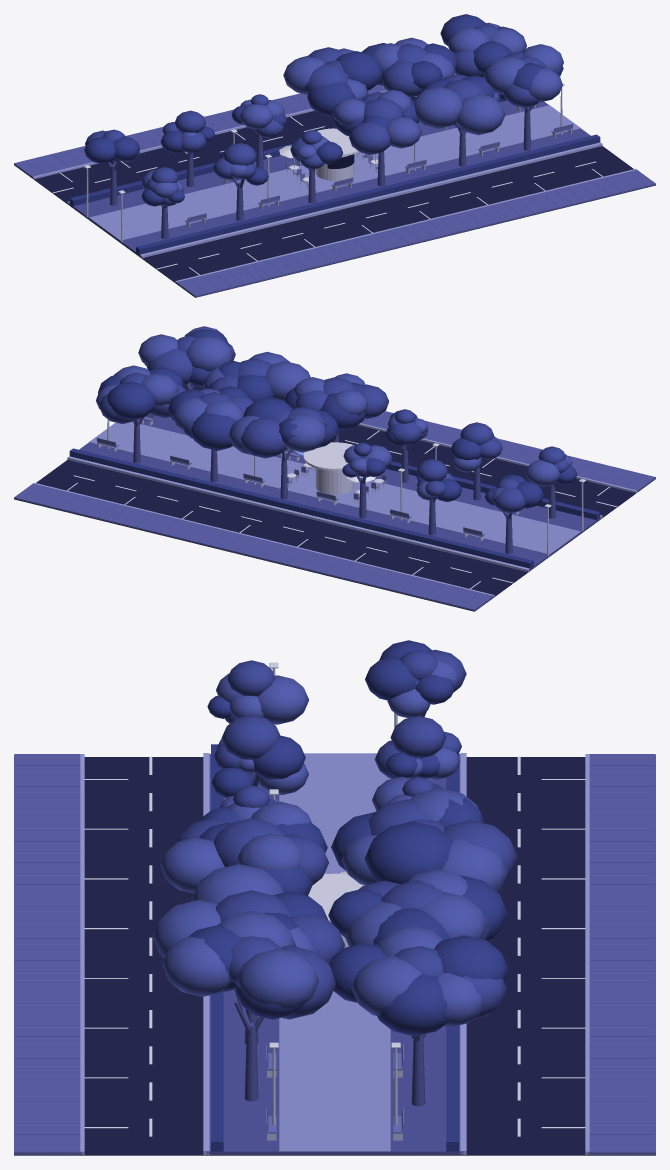
The model's file is boulevard.glb.
The picture shows the model from 3 angles, top to bottom: view 1: azimuth 30°, elevation 25°; view 2: azimuth 150°, elevation 25°; view 3: azimuth 270°, elevation 25°; orthographic projection. The views are drawn at different scales.
Visible parts, largest first — view 1: baked0, baked6, baked9, baked1, baked8, baked5, baked4, baked2, baked7, baked11, baked3, baked10 (+2 smaller); view 2: baked0, baked6, baked1, baked9, baked5, baked8, baked4, baked2, baked7, kioskRoof, baked10, kioskBody (+2 smaller); view 3: baked0, baked1, baked9, baked6, baked8, baked5, baked4, baked2, baked3, baked7, kioskRoof, baked11 (+1 smaller).
Boxes of the visible parts, left/top/right/bottom form: baked0: left=14, top=95, right=655, bottom=297; baked6: left=69, top=14, right=600, bottom=254; baked9: left=106, top=22, right=563, bottom=198; baked1: left=14, top=84, right=655, bottom=297; baked8: left=85, top=24, right=545, bottom=206; baked5: left=89, top=105, right=580, bottom=240; baked4: left=14, top=85, right=646, bottom=295; baked2: left=32, top=73, right=636, bottom=282; baked7: left=107, top=96, right=532, bottom=239; baked11: left=86, top=87, right=571, bottom=242; baked3: left=52, top=96, right=602, bottom=275; baked10: left=185, top=106, right=573, bottom=222; baked0: left=14, top=384, right=654, bottom=611; baked6: left=69, top=329, right=600, bottom=568; baked1: left=14, top=411, right=655, bottom=611; baked9: left=96, top=326, right=572, bottom=504; baked5: left=89, top=422, right=580, bottom=554; baked8: left=99, top=335, right=569, bottom=513; baked4: left=23, top=413, right=655, bottom=609; baked2: left=33, top=383, right=637, bottom=596; baked7: left=133, top=383, right=556, bottom=553; kioskRoof: left=303, top=442, right=353, bottom=470; baked10: left=96, top=413, right=484, bottom=536; kioskBody: left=315, top=468, right=354, bottom=494; baked0: left=14, top=757, right=655, bottom=1155; baked1: left=14, top=754, right=655, bottom=1155; baked9: left=152, top=660, right=508, bottom=1027; baked6: left=188, top=640, right=508, bottom=1151; baked8: left=178, top=649, right=517, bottom=1019; baked5: left=279, top=753, right=390, bottom=1151; baked4: left=15, top=754, right=654, bottom=1155; baked2: left=80, top=753, right=589, bottom=1154; baked3: left=84, top=756, right=585, bottom=1136; baked7: left=233, top=711, right=426, bottom=1106; kioskRoof: left=308, top=873, right=364, bottom=922; baked11: left=267, top=668, right=402, bottom=1140.
Size of the model in its own units: 44.23 by 8.79 by 30.
